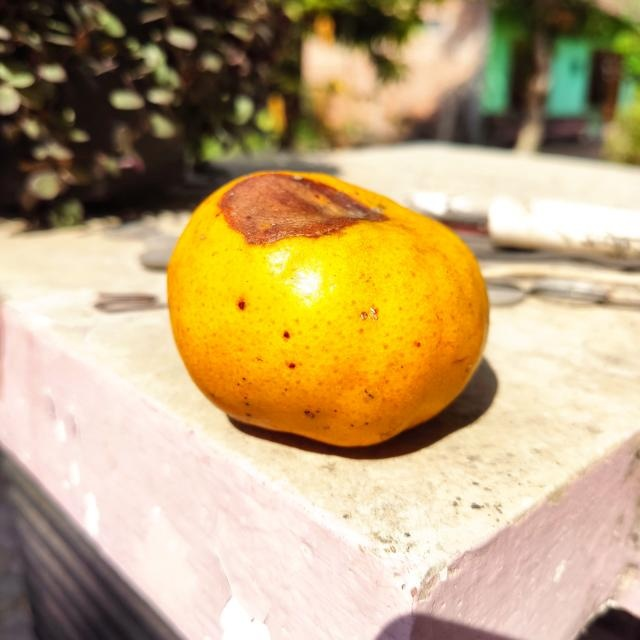agrume: (166, 168, 490, 447)
